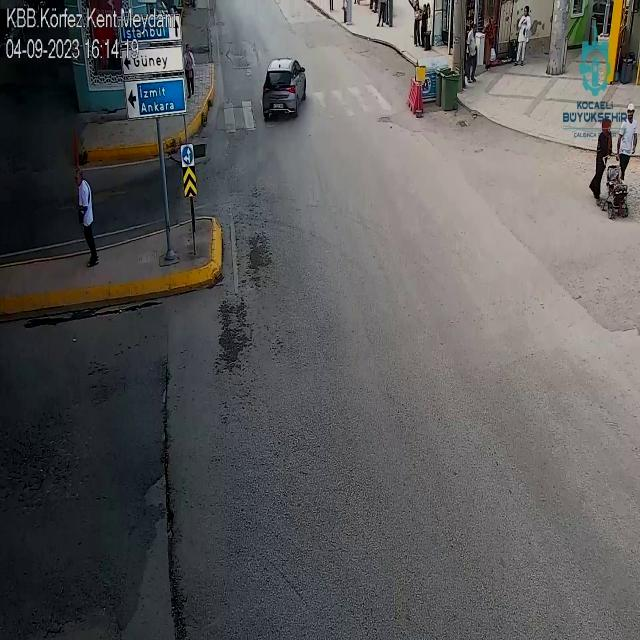Car: (261, 58, 307, 119)
